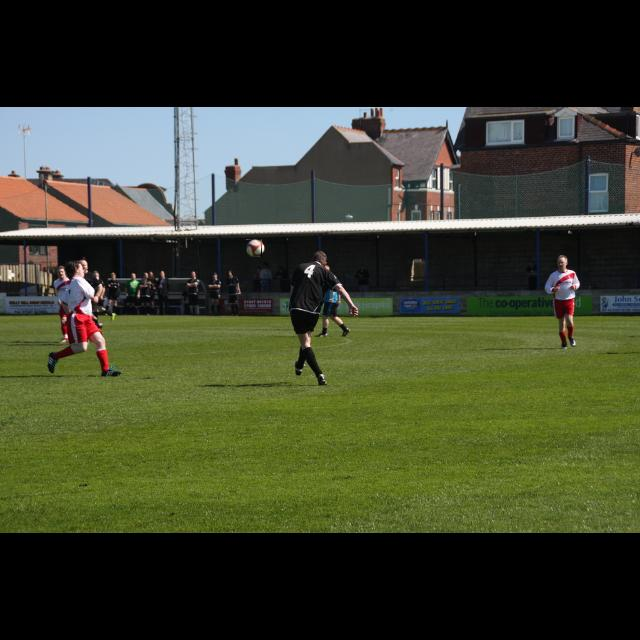Football: (246, 239, 262, 257)
